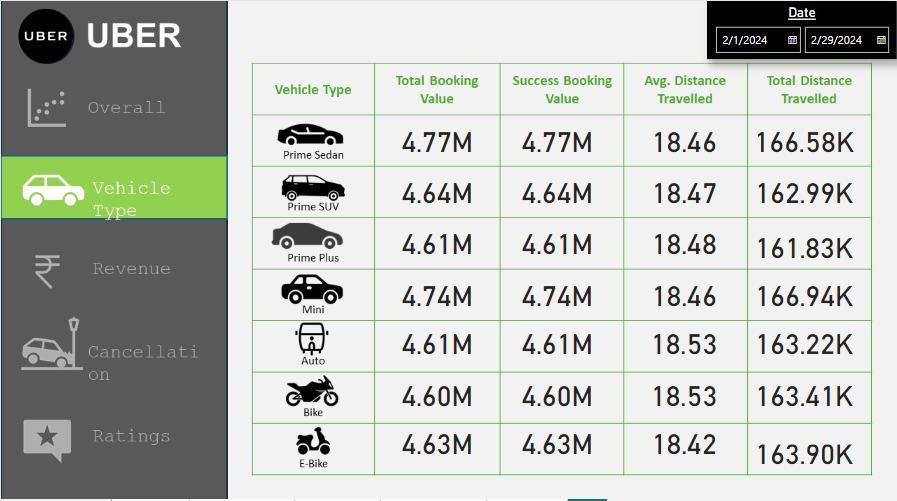

This screenshot's page, from the dashboard's own definition file:
{"tool":"powerbi","page":{"name":"VehicleType","canvas":[1280,720],"ordinal":1},"visuals":[{"type":"actionButton","box":[0,225.4,324.6,83.6],"z":0},{"type":"actionButton","box":[0,337.3,324.6,92.1],"z":1000},{"type":"actionButton","box":[0,117.6,324.6,79.4],"z":2000},{"type":"actionButton","box":[0,442.2,324.6,110.6],"z":3000},{"type":"actionButton","box":[0,589.6,324.6,78],"z":4000},{"type":"card","fields":{"Values":["Sum(Bengaluru_Rides_Data.BookingValue)"]},"box":[537.1,178.6,171.4,58.6],"z":5000},{"type":"card","fields":{"Values":["Sum(Bengaluru_Rides_Data.BookingValue)"]},"box":[537.1,251.4,171.4,58.6],"z":6000},{"type":"card","fields":{"Values":["Sum(Bengaluru_Rides_Data.BookingValue)"]},"box":[537.1,324.3,171.4,58.6],"z":7000},{"type":"card","fields":{"Values":["Sum(Bengaluru_Rides_Data.BookingValue)"]},"box":[537.1,398.6,171.4,58.6],"z":8000},{"type":"card","fields":{"Values":["Sum(Bengaluru_Rides_Data.BookingValue)"]},"box":[537.1,467.1,171.4,58.6],"z":9000},{"type":"card","fields":{"Values":["Sum(Bengaluru_Rides_Data.BookingValue)"]},"box":[537.1,541.4,171.4,58.6],"z":10000},{"type":"card","fields":{"Values":["Sum(Bengaluru_Rides_Data.BookingValue)"]},"box":[537.1,610,171.4,58.6],"z":11000},{"type":"card","fields":{"Values":["Sum(Bengaluru_Rides_Data.BookingValue)"]},"box":[708.6,178.6,171.4,58.6],"z":12000},{"type":"card","fields":{"Values":["Sum(Bengaluru_Rides_Data.BookingValue)"]},"box":[708.6,251.4,171.4,58.6],"z":13000},{"type":"card","fields":{"Values":["Sum(Bengaluru_Rides_Data.BookingValue)"]},"box":[708.6,324.3,171.4,58.6],"z":14000},{"type":"card","fields":{"Values":["Sum(Bengaluru_Rides_Data.BookingValue)"]},"box":[708.6,398.6,171.4,58.6],"z":15000},{"type":"card","fields":{"Values":["Sum(Bengaluru_Rides_Data.BookingValue)"]},"box":[708.6,467.1,171.4,58.6],"z":16000},{"type":"card","fields":{"Values":["Sum(Bengaluru_Rides_Data.BookingValue)"]},"box":[708.6,541.4,171.4,58.6],"z":17000},{"type":"card","fields":{"Values":["Sum(Bengaluru_Rides_Data.BookingValue)"]},"box":[708.6,610,171.4,58.6],"z":18000},{"type":"card","fields":{"Values":["Avg(Bengaluru_Rides_Data.RideDistance)"]},"box":[890,178.6,171.4,58.6],"z":19000},{"type":"card","fields":{"Values":["Avg(Bengaluru_Rides_Data.RideDistance)"]},"box":[890,251.4,171.4,58.6],"z":20000},{"type":"card","fields":{"Values":["Avg(Bengaluru_Rides_Data.RideDistance)"]},"box":[890,324.3,171.4,58.6],"z":21000},{"type":"card","fields":{"Values":["Avg(Bengaluru_Rides_Data.RideDistance)"]},"box":[890,398.6,171.4,58.6],"z":22000},{"type":"card","fields":{"Values":["Avg(Bengaluru_Rides_Data.RideDistance)"]},"box":[890,467.1,171.4,58.6],"z":23000},{"type":"card","fields":{"Values":["Avg(Bengaluru_Rides_Data.RideDistance)"]},"box":[890,541.4,171.4,58.6],"z":24000},{"type":"card","fields":{"Values":["Avg(Bengaluru_Rides_Data.RideDistance)"]},"box":[890,610,171.4,58.6],"z":25000},{"type":"card","fields":{"Values":["Sum(Bengaluru_Rides_Data.RideDistance)"]},"box":[1061.4,178.6,171.4,58.6],"z":26000},{"type":"card","fields":{"Values":["Sum(Bengaluru_Rides_Data.RideDistance)"]},"box":[1061.4,251.4,171.4,58.6],"z":27000},{"type":"card","fields":{"Values":["Sum(Bengaluru_Rides_Data.RideDistance)"]},"box":[1061.4,330,171.4,58.6],"z":28000},{"type":"card","fields":{"Values":["Sum(Bengaluru_Rides_Data.RideDistance)"]},"box":[1061.4,398.6,171.4,58.6],"z":29000},{"type":"card","fields":{"Values":["Sum(Bengaluru_Rides_Data.RideDistance)"]},"box":[1061.4,467.1,171.4,58.6],"z":30000},{"type":"card","fields":{"Values":["Sum(Bengaluru_Rides_Data.RideDistance)"]},"box":[1061.4,541.4,171.4,58.6],"z":31000},{"type":"card","fields":{"Values":["Sum(Bengaluru_Rides_Data.RideDistance)"]},"box":[1061.4,628.6,171.4,50],"z":32000},{"type":"slicer","title":"Date","fields":{"Values":["Bengaluru_Rides_Data.Date"]},"box":[1008.6,0,271.4,82.9],"z":33000}]}

Visuals, with their boxes on the page's 1280x720 design canvas (x1, y1, x2, y2). These are canvas units, not pixel positions in the 897x501 screenshot, which may show the page scaled, cropped or inside an application window:
actionButton: detection(0, 225, 325, 309)
actionButton: detection(0, 337, 325, 429)
actionButton: detection(0, 118, 325, 197)
actionButton: detection(0, 442, 325, 553)
actionButton: detection(0, 590, 325, 668)
card - Sum(Bengaluru_Rides_Data.BookingValue): detection(537, 179, 708, 237)
card - Sum(Bengaluru_Rides_Data.BookingValue): detection(537, 251, 708, 310)
card - Sum(Bengaluru_Rides_Data.BookingValue): detection(537, 324, 708, 383)
card - Sum(Bengaluru_Rides_Data.BookingValue): detection(537, 399, 708, 457)
card - Sum(Bengaluru_Rides_Data.BookingValue): detection(537, 467, 708, 526)
card - Sum(Bengaluru_Rides_Data.BookingValue): detection(537, 541, 708, 600)
card - Sum(Bengaluru_Rides_Data.BookingValue): detection(537, 610, 708, 669)
card - Sum(Bengaluru_Rides_Data.BookingValue): detection(709, 179, 880, 237)
card - Sum(Bengaluru_Rides_Data.BookingValue): detection(709, 251, 880, 310)
card - Sum(Bengaluru_Rides_Data.BookingValue): detection(709, 324, 880, 383)
card - Sum(Bengaluru_Rides_Data.BookingValue): detection(709, 399, 880, 457)
card - Sum(Bengaluru_Rides_Data.BookingValue): detection(709, 467, 880, 526)
card - Sum(Bengaluru_Rides_Data.BookingValue): detection(709, 541, 880, 600)
card - Sum(Bengaluru_Rides_Data.BookingValue): detection(709, 610, 880, 669)
card - Avg(Bengaluru_Rides_Data.RideDistance): detection(890, 179, 1061, 237)
card - Avg(Bengaluru_Rides_Data.RideDistance): detection(890, 251, 1061, 310)
card - Avg(Bengaluru_Rides_Data.RideDistance): detection(890, 324, 1061, 383)
card - Avg(Bengaluru_Rides_Data.RideDistance): detection(890, 399, 1061, 457)
card - Avg(Bengaluru_Rides_Data.RideDistance): detection(890, 467, 1061, 526)
card - Avg(Bengaluru_Rides_Data.RideDistance): detection(890, 541, 1061, 600)
card - Avg(Bengaluru_Rides_Data.RideDistance): detection(890, 610, 1061, 669)
card - Sum(Bengaluru_Rides_Data.RideDistance): detection(1061, 179, 1233, 237)
card - Sum(Bengaluru_Rides_Data.RideDistance): detection(1061, 251, 1233, 310)
card - Sum(Bengaluru_Rides_Data.RideDistance): detection(1061, 330, 1233, 389)
card - Sum(Bengaluru_Rides_Data.RideDistance): detection(1061, 399, 1233, 457)
card - Sum(Bengaluru_Rides_Data.RideDistance): detection(1061, 467, 1233, 526)
card - Sum(Bengaluru_Rides_Data.RideDistance): detection(1061, 541, 1233, 600)
card - Sum(Bengaluru_Rides_Data.RideDistance): detection(1061, 629, 1233, 679)
"Date" slicer: detection(1009, 0, 1280, 83)
